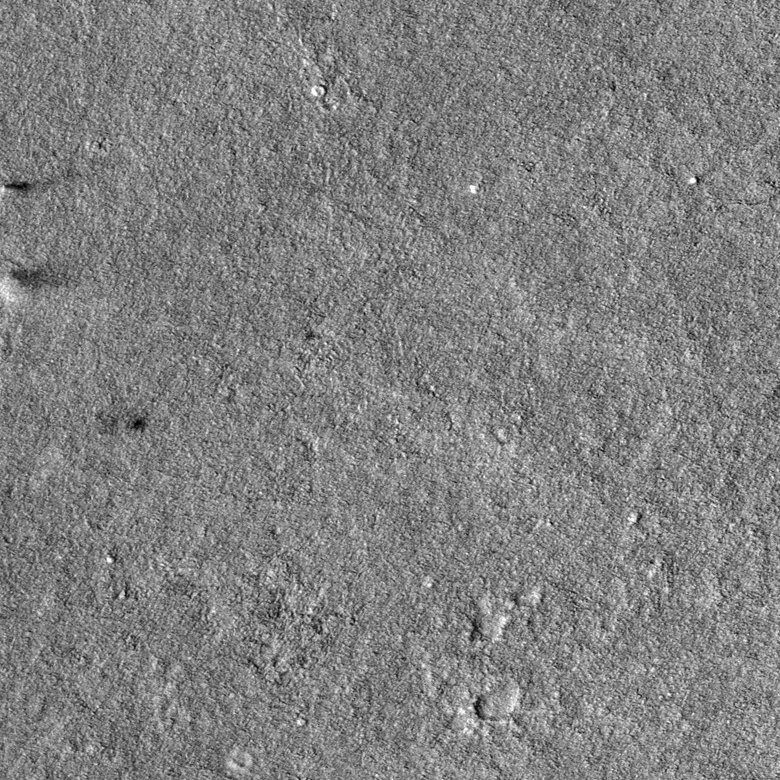dust_devil: (1, 265, 78, 305)
